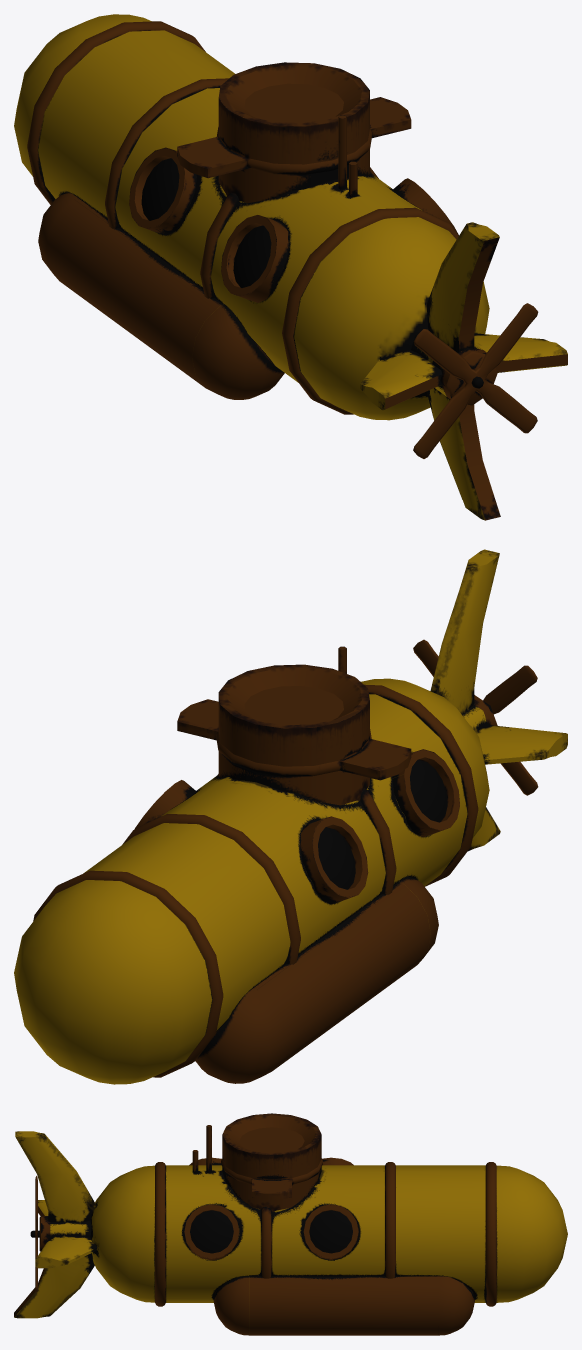
Rendered from YellowSubmarine.obj.
The picture shows the model from 3 angles, top to bottom: view 1: azimuth 30°, elevation 25°; view 2: azimuth 150°, elevation 25°; view 3: azimuth 270°, elevation 25°; orthographic projection. The views are drawn at different scales.
Parts seen in each view (by area): view 1: Submarine_LP, Propellor_LP; view 2: Submarine_LP, Propellor_LP; view 3: Submarine_LP, Propellor_LP.
Part boxes in pixels (left/top/right/bottom): Submarine_LP: left=14, top=14, right=567, bottom=520; Propellor_LP: left=413, top=303, right=538, bottom=458; Submarine_LP: left=14, top=549, right=567, bottom=1084; Propellor_LP: left=413, top=639, right=538, bottom=795; Submarine_LP: left=14, top=1113, right=567, bottom=1335; Propellor_LP: left=35, top=1176, right=37, bottom=1292.
Bounding box in the file's own units: 1.3 × 1.52 × 4.02.
